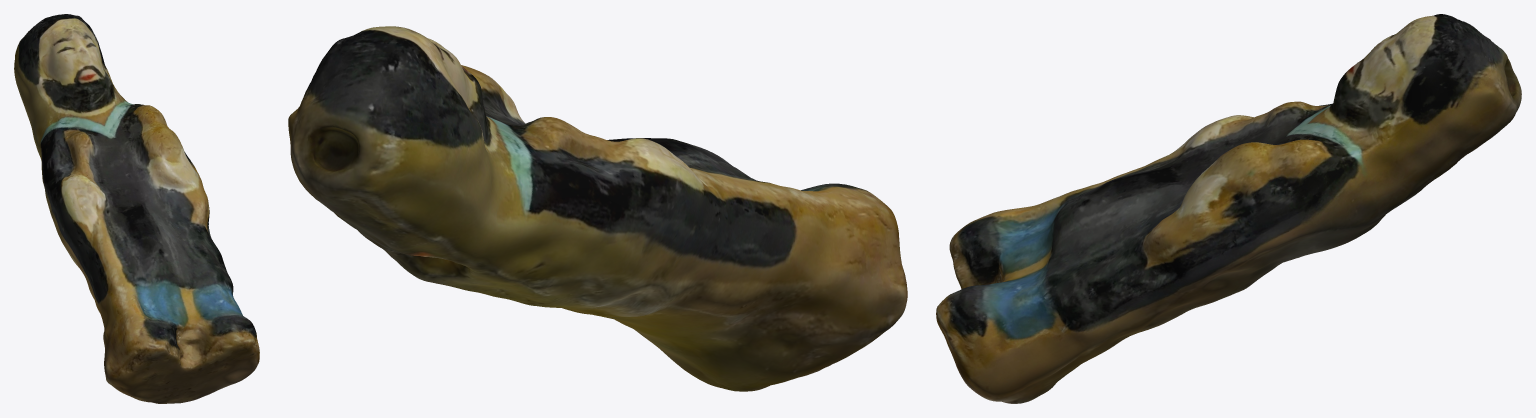
3 views of the same model, side by side, from view 1: azimuth 30°, elevation 25°; view 2: azimuth 150°, elevation 25°; view 3: azimuth 270°, elevation 25° (orthographic). The views are drawn at different scales.
Size of the model in its own units: 0.314 by 0.4742 by 0.6409.
1 material, 1 textured.
